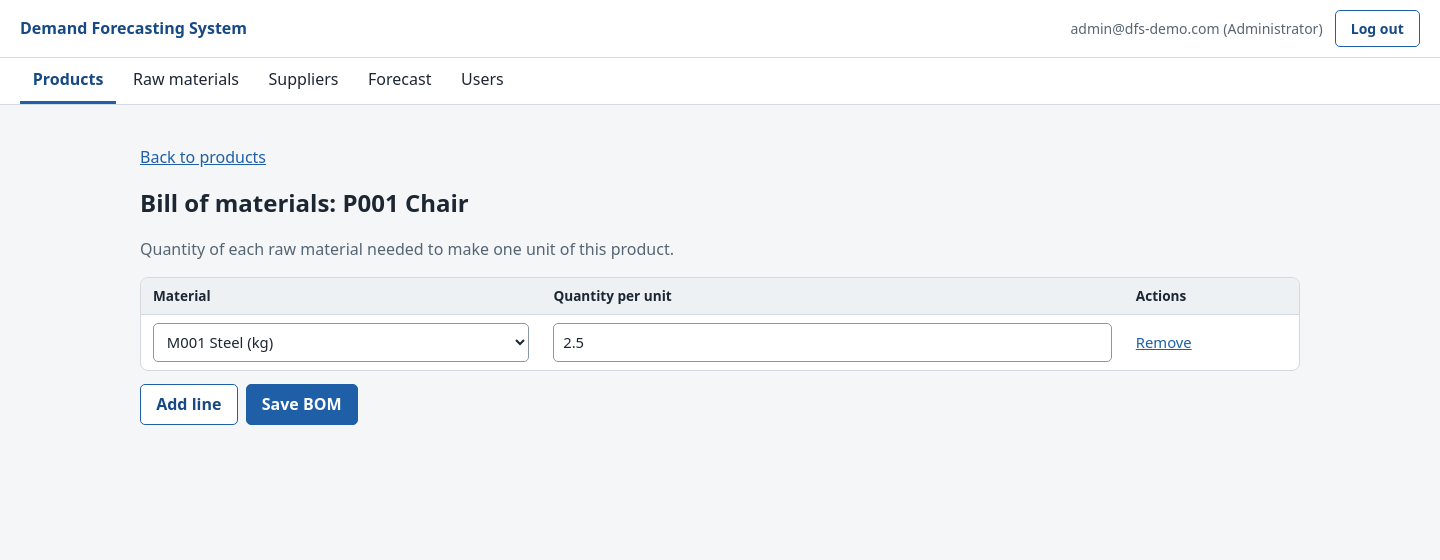
Scenario: bill of materials › loads the BOM, adds a line and saves
Expected: the number field named "Quantity for line 1" holds "2.5", [553,323,1112,362]
Click the button "Add line": (189,404) [140,384,238,425]
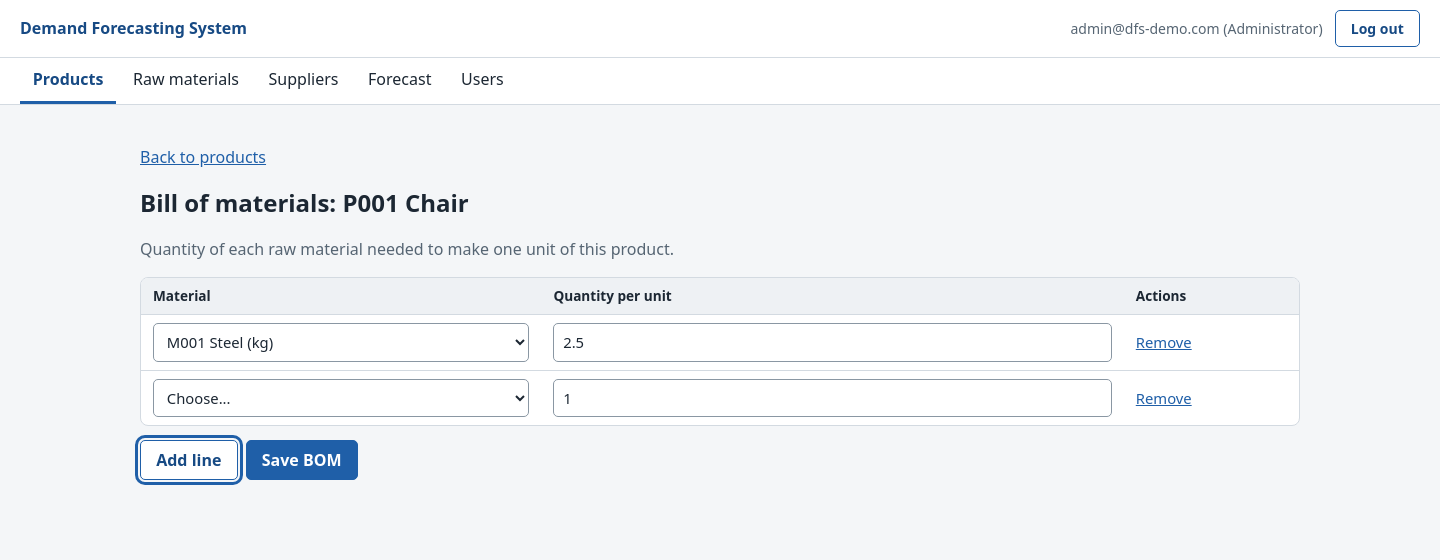
Select "M002 Paint (litre)" in the dropdown named "Material for line 2": (341,398) [153,379,529,417]
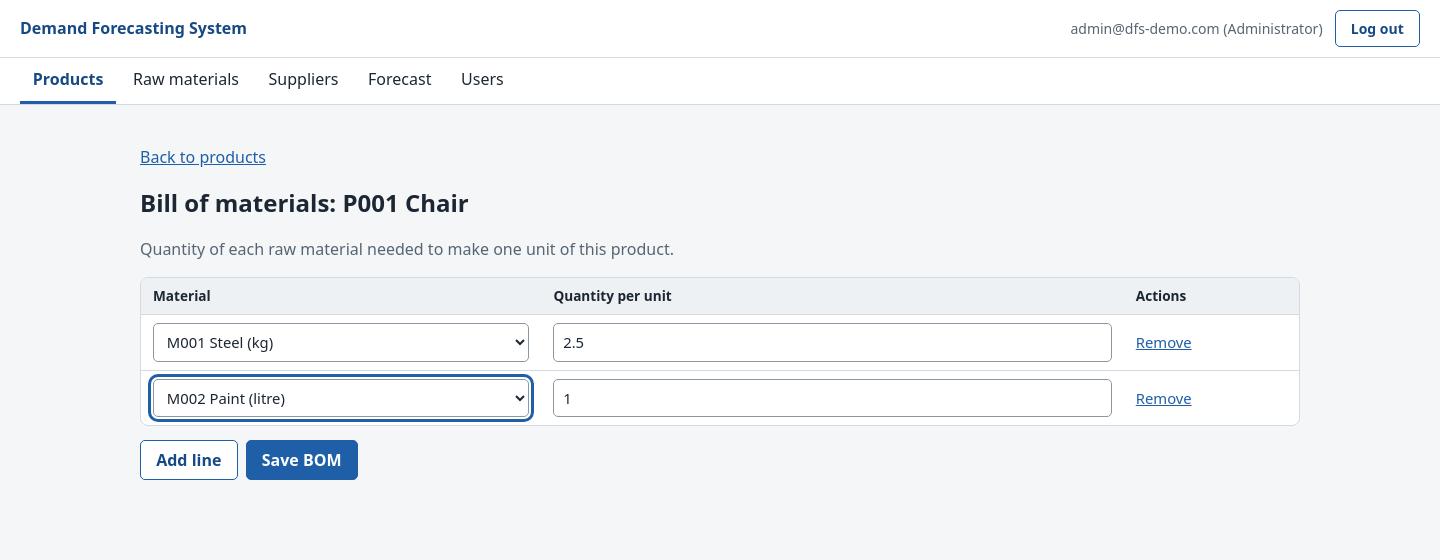
Click the button "Save BOM": (302,460) [246,440,358,480]
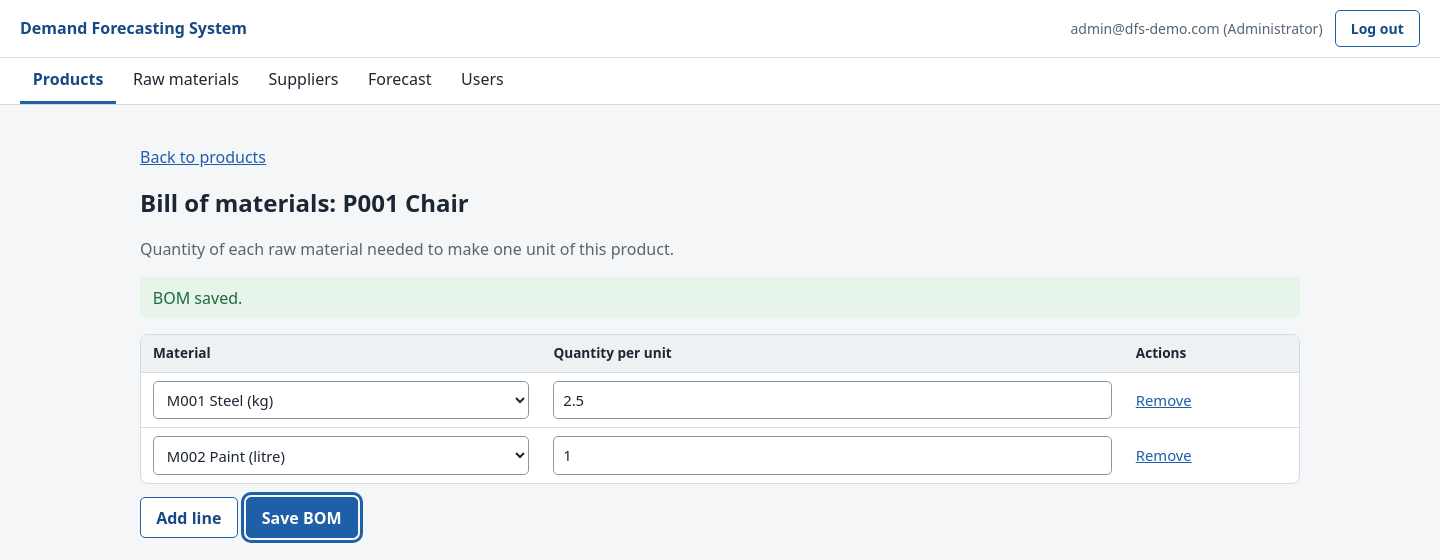
Expected: the message shows "BOM saved", [153,286,242,308]
